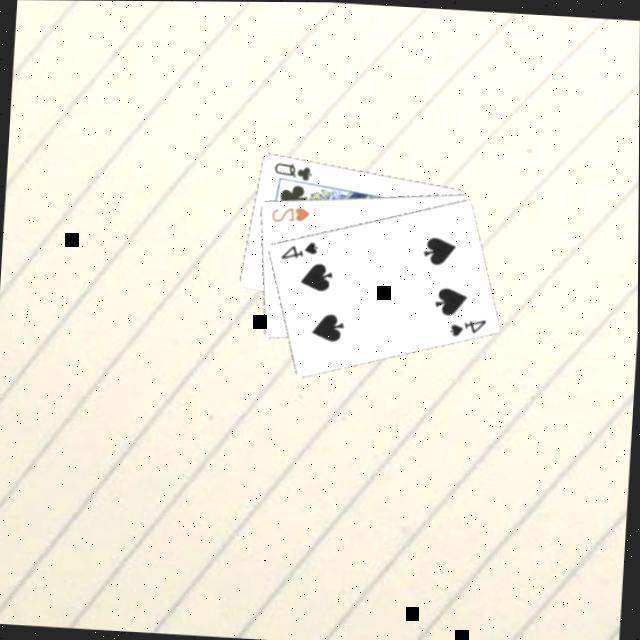2H: (266, 201, 311, 225)
4S: (276, 235, 319, 263), (444, 312, 487, 339)
QC: (268, 158, 313, 182)
